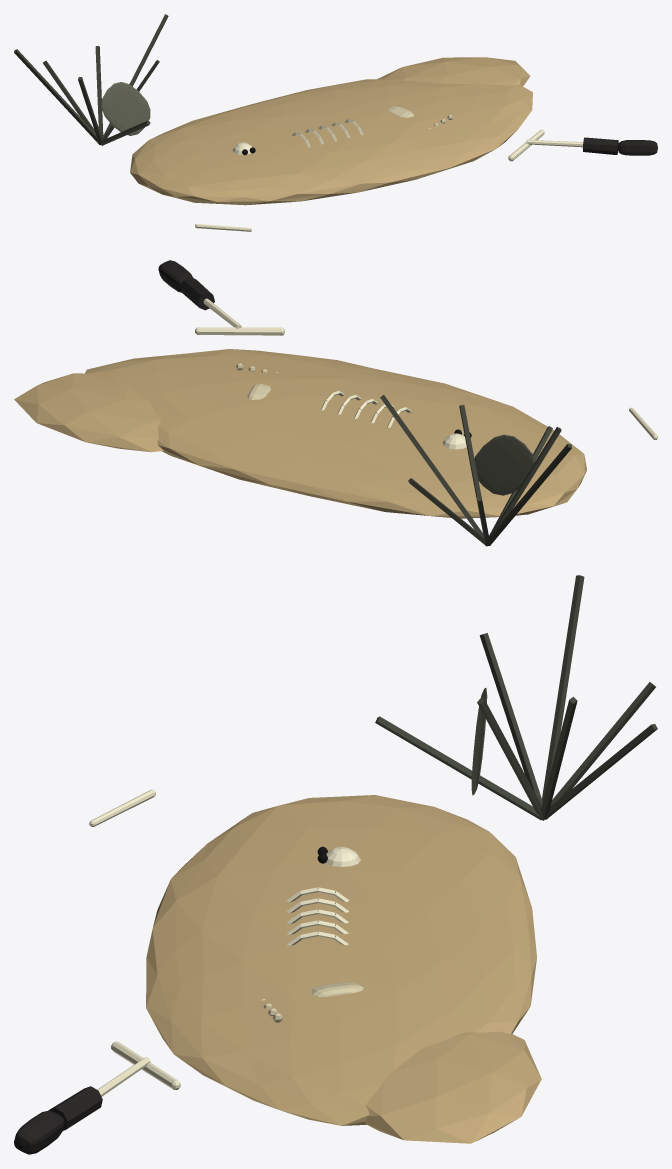
The model's file is bones.glb.
3 views of the same model, one above another, from view 1: azimuth 30°, elevation 25°; view 2: azimuth 150°, elevation 25°; view 3: azimuth 270°, elevation 25° (orthographic). The views are drawn at different scales.
Visible parts, largest first — view 1: bones; view 2: bones; view 3: bones.
Part boxes in pixels (left/top/right/bottom): bones: left=14, top=14, right=657, bottom=231; bones: left=14, top=260, right=657, bottom=546; bones: left=14, top=575, right=657, bottom=1154.
Size of the model in its own units: 4.06 by 0.86 by 2.71.
